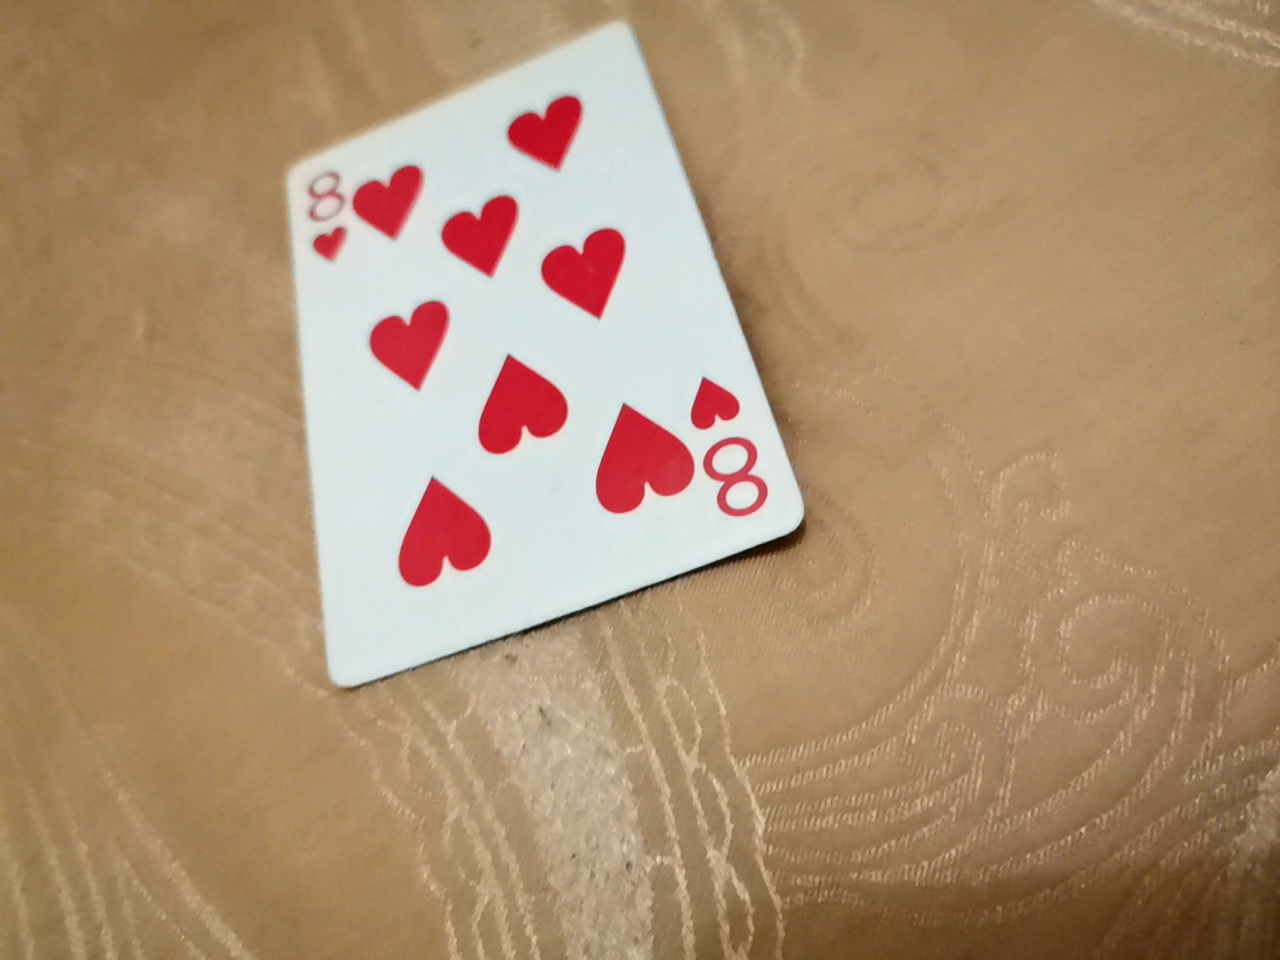hx 8: (269, 11, 800, 684)
